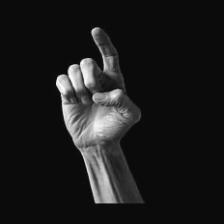one: (53, 21, 145, 168)
